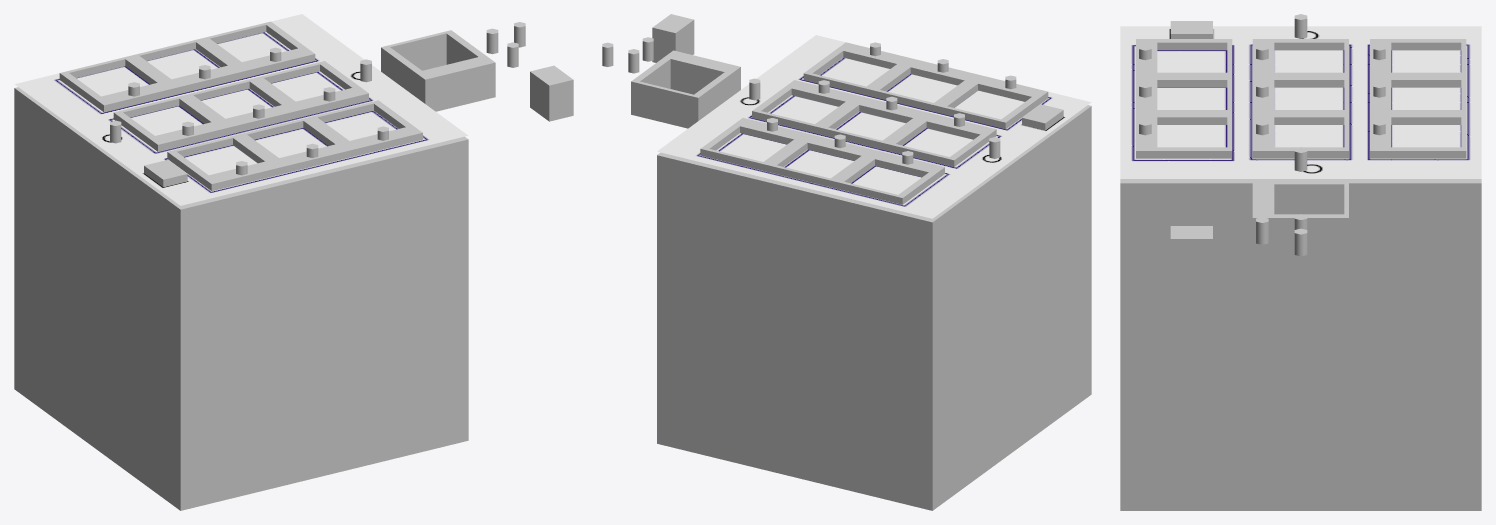
Rendered from picture symbol slot puzzle box.fbx.
3 views of the same model, side by side, from view 1: azimuth 30°, elevation 25°; view 2: azimuth 150°, elevation 25°; view 3: azimuth 270°, elevation 25° (orthographic). The views are drawn at different scales.
Parts seen in each view (by area): view 1: Box001, Plane001, Box002, Box004, Box003, Box006, Box007, Box005; view 2: Box001, Plane001, Box002, Box004, Box003, Box006, Box007, Box005; view 3: Box001, Plane001, Box002, Box004, Box006, Box003, Box007, Box005.
Boxes of the visible parts, x1=… form: Box001: x1=14, y1=87, x2=468, y2=510; Plane001: x1=14, y1=14, x2=467, y2=205; Box002: x1=59, y1=21, x2=315, y2=112; Box004: x1=167, y1=100, x2=422, y2=190; Box003: x1=113, y1=61, x2=368, y2=151; Box006: x1=381, y1=30, x2=495, y2=111; Box007: x1=530, y1=65, x2=573, y2=121; Box005: x1=144, y1=160, x2=187, y2=187; Box001: x1=657, y1=105, x2=1091, y2=510; Plane001: x1=657, y1=35, x2=1091, y2=218; Box002: x1=700, y1=118, x2=944, y2=204; Box004: x1=803, y1=42, x2=1048, y2=129; Box003: x1=752, y1=80, x2=996, y2=166; Box006: x1=631, y1=50, x2=740, y2=128; Box007: x1=652, y1=14, x2=694, y2=62; Box005: x1=1022, y1=104, x2=1063, y2=130; Box001: x1=1120, y1=179, x2=1481, y2=510; Plane001: x1=1120, y1=26, x2=1481, y2=178; Box002: x1=1370, y1=39, x2=1466, y2=158; Box004: x1=1136, y1=39, x2=1232, y2=158; Box006: x1=1252, y1=180, x2=1348, y2=255; Box003: x1=1252, y1=39, x2=1348, y2=158; Box007: x1=1170, y1=226, x2=1212, y2=277; Box005: x1=1170, y1=21, x2=1212, y2=38.
Size of the model in its own units: 176 by 126 by 118.
